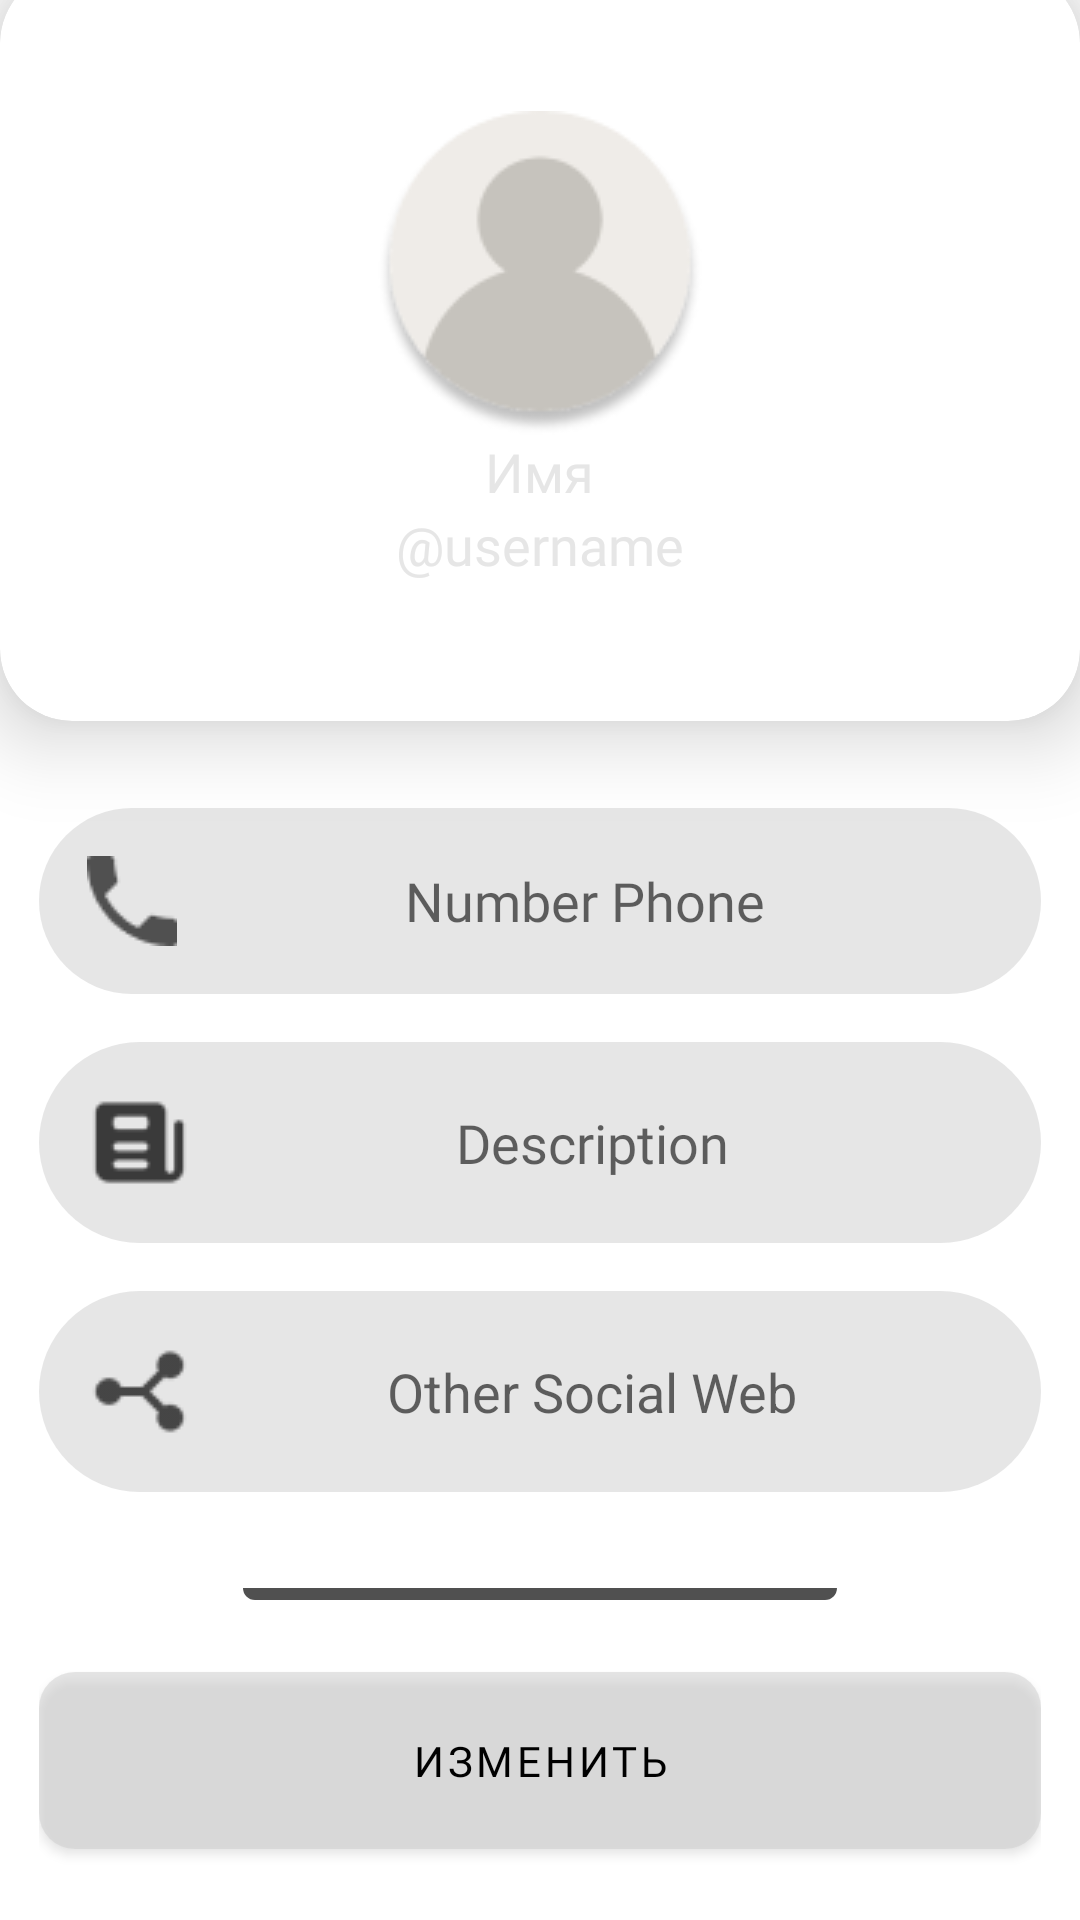

Named icons in this screenshot (1080w x 1920h) and their bounding boxes, (x1, y1, x2, y2):
profile: (388, 155, 692, 425)
